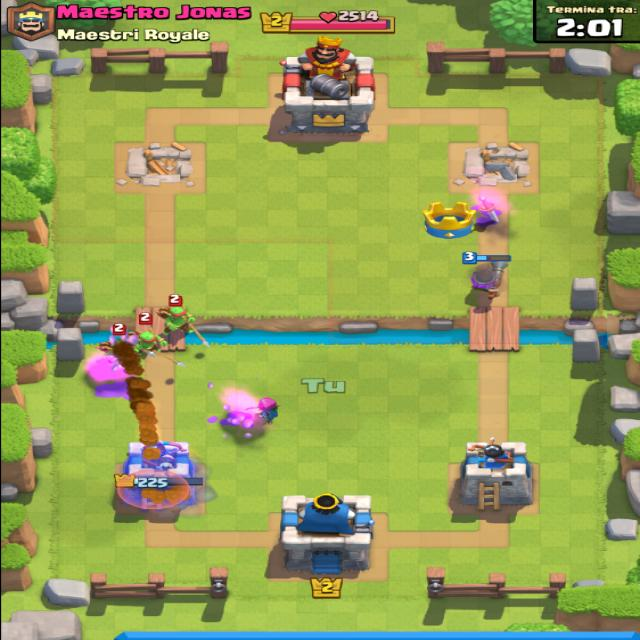Enemy-SpearGoblin: (129, 311, 166, 355), (156, 294, 189, 333)
Player-Archer: (255, 396, 288, 424)
Player-Musketeer: (463, 252, 517, 300)
